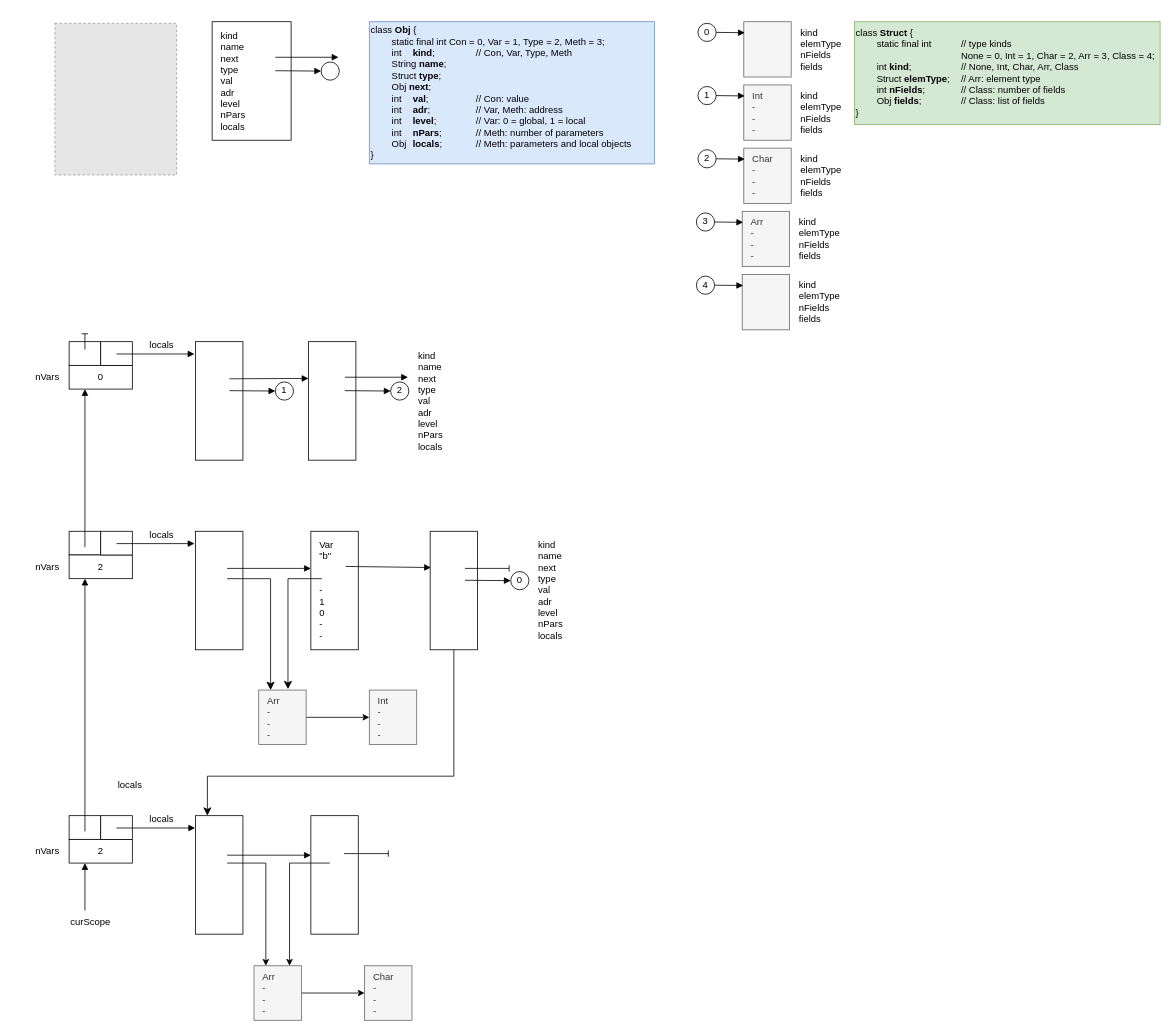
Some shapes in this 1174 by 1034 pixel diagram are drawn without their labels. Grey dashed boxes stand in for pictures. The shapes that lost their labels are listed below. From the top down, each one's centre as x and y in pixels, then its label:
pixel 767 49: None - - -
pixel 765 302: Class - - -
pixel 219 400: Type "int" - - - - -
pixel 332 400: Type "char" - - - - -
pixel 219 590: Var "a" - 0 0 - -
pixel 453 590: Meth "main" - 100 - 0 -
pixel 219 874: Var "c" - 0 1 - -
pixel 334 874: Var "d" - 1 1 - -
